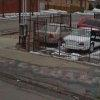Car: (33, 16, 98, 62)
